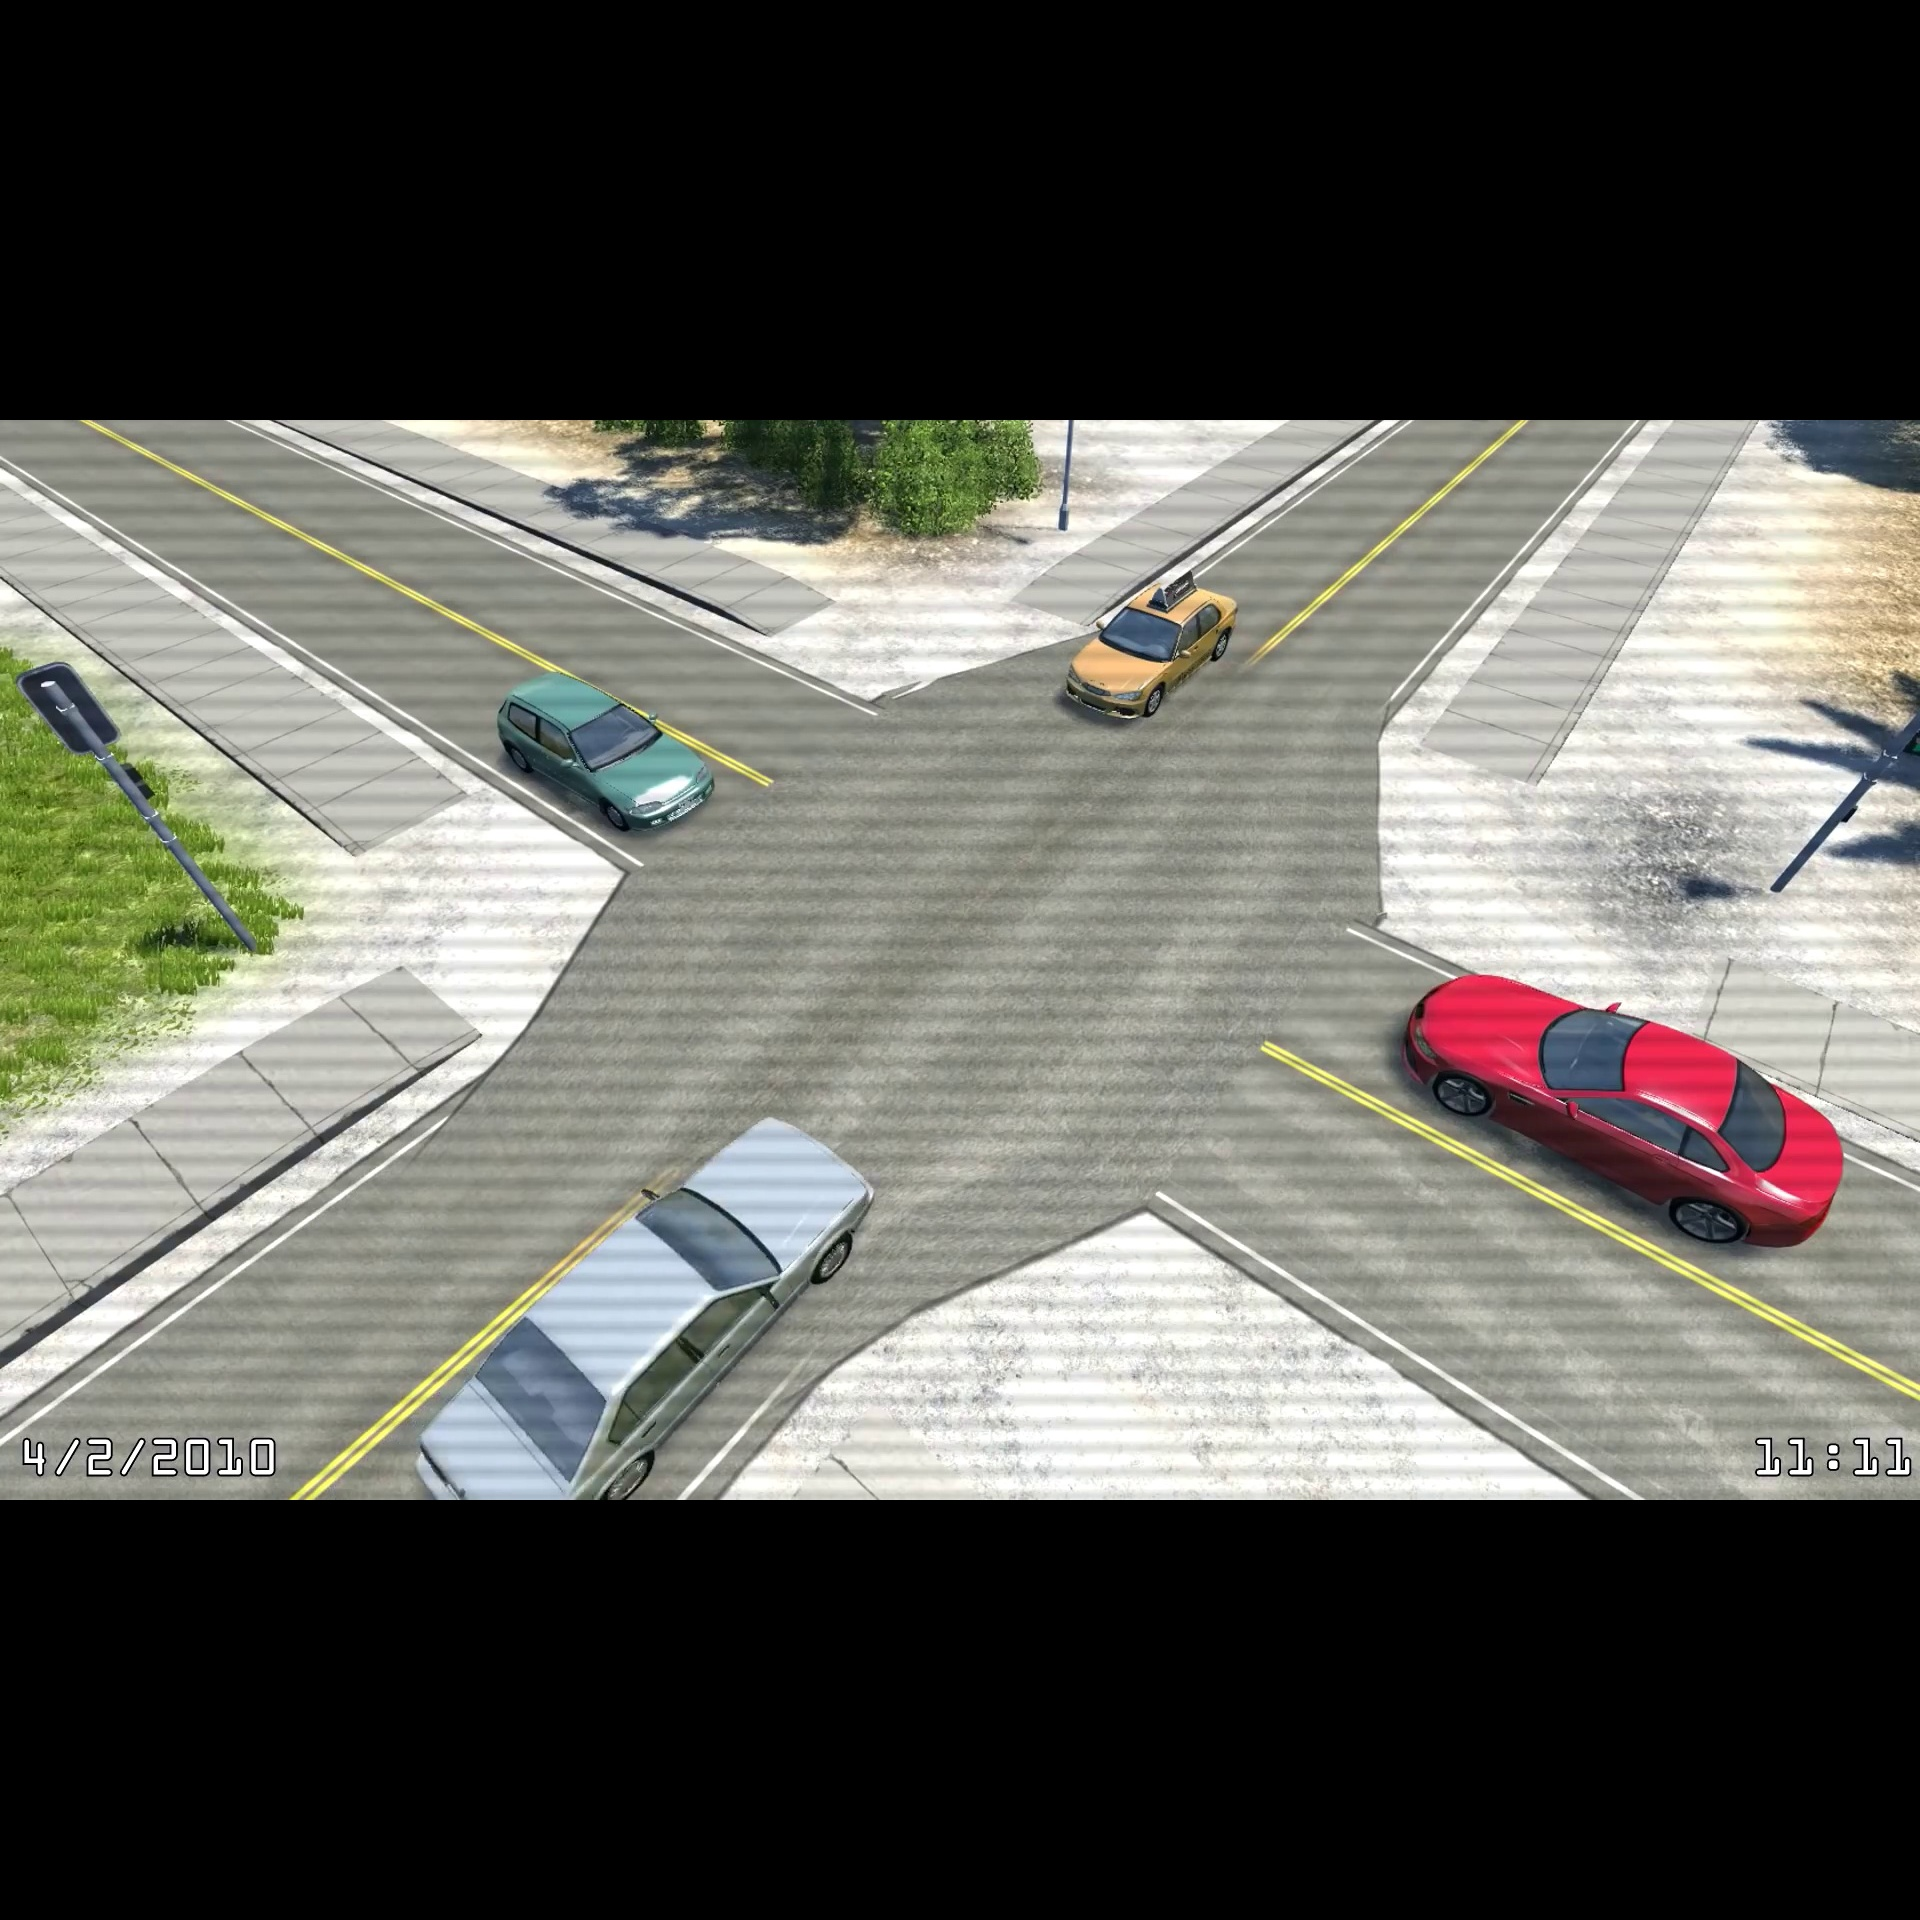vehicle: (397, 1097, 890, 1502), (1393, 960, 1853, 1262), (487, 658, 723, 847), (1057, 563, 1241, 724)
